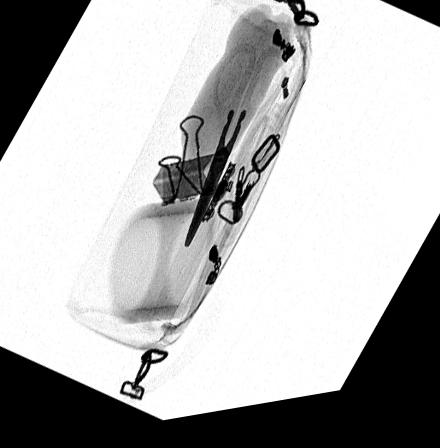Scissors: (178, 50, 294, 254)
